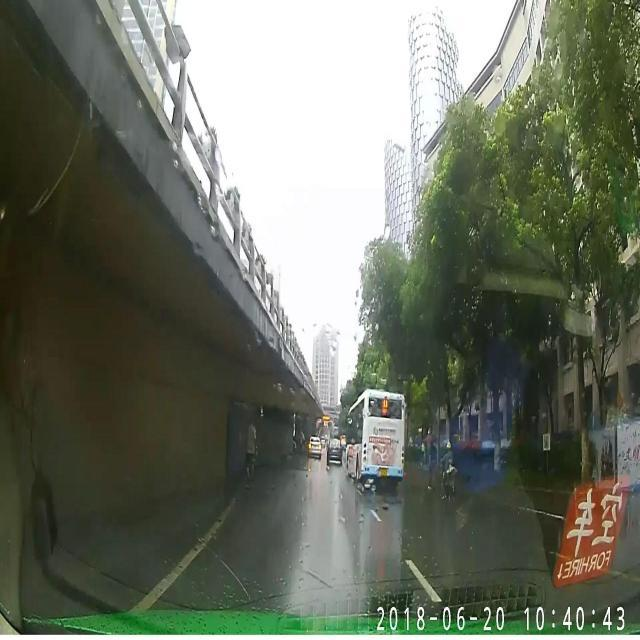car: (325, 436, 342, 464), (308, 434, 322, 458)
